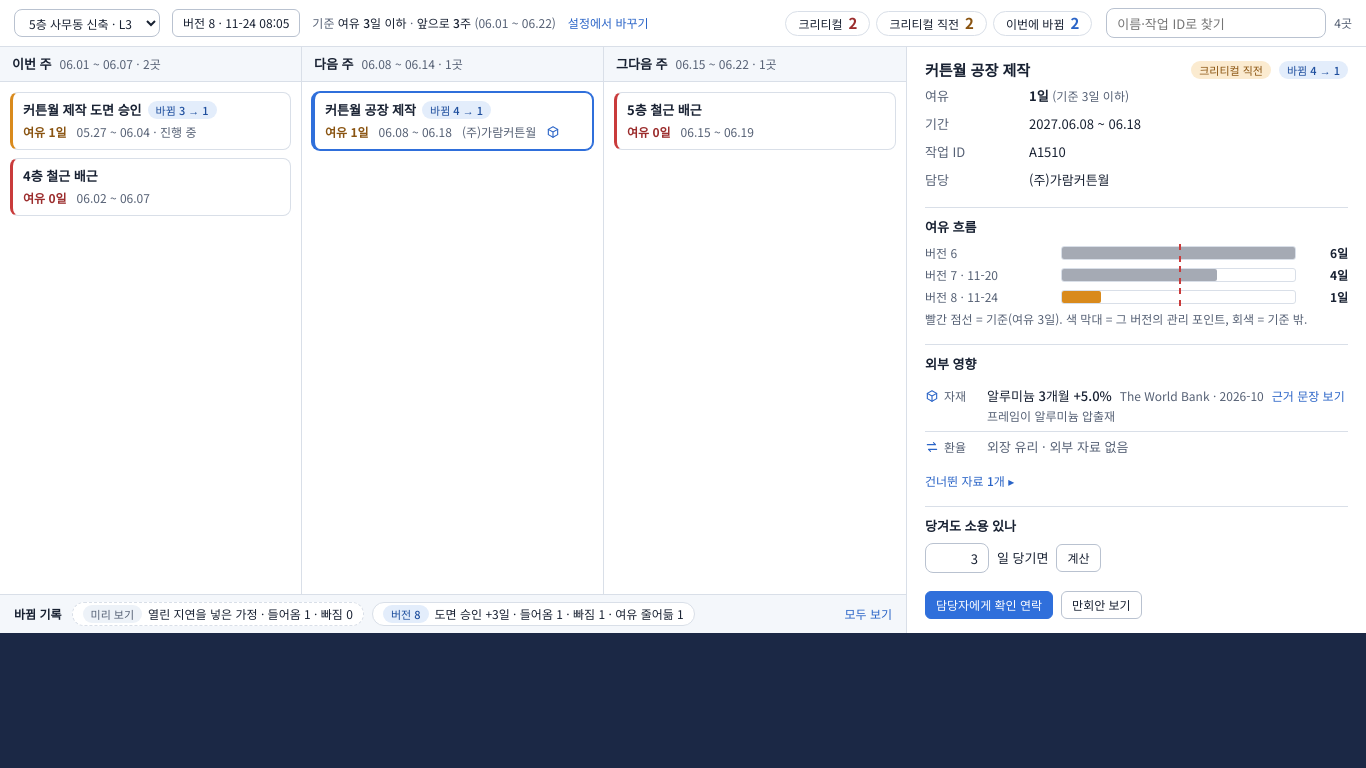
「당겨도 소용 있나」 asks the server and shows the result line and the next chain
Clear the field named "당길 날 수" at (957, 558), box 925,543 -> 989,573
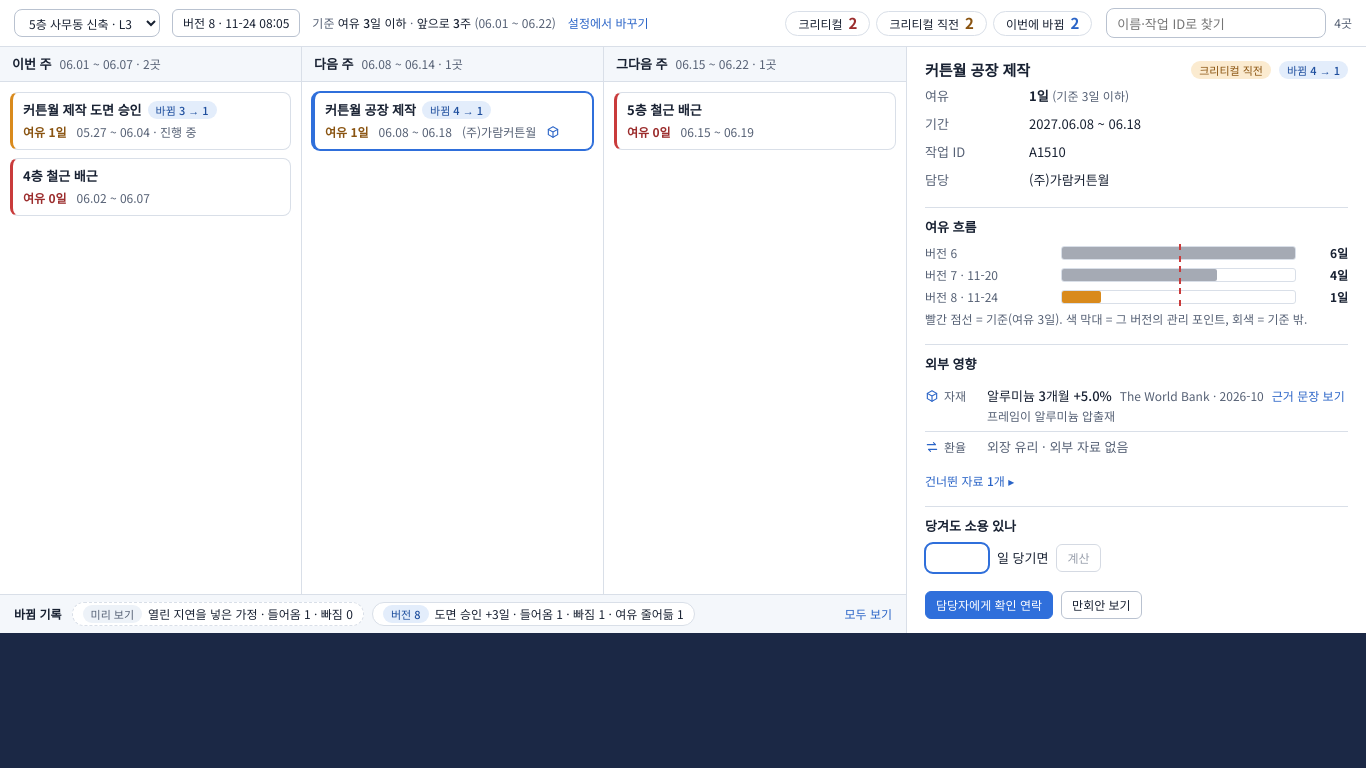
Expected: the button "계산" is disabled, 1056,544 -> 1101,572
Type "3" into the field named "당길 날 수" at (957, 558), box 925,543 -> 989,573
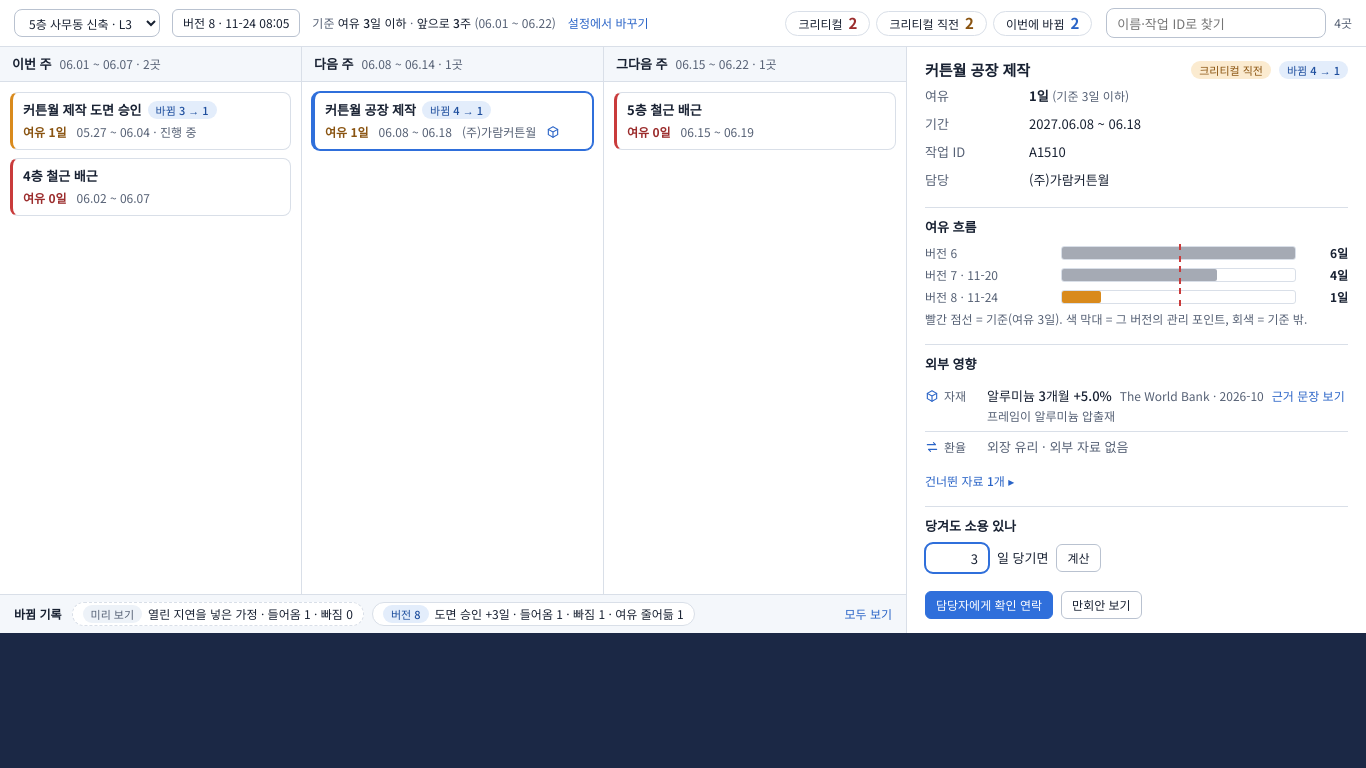
Click the button "계산" at (1079, 558), box 1056,544 -> 1101,572
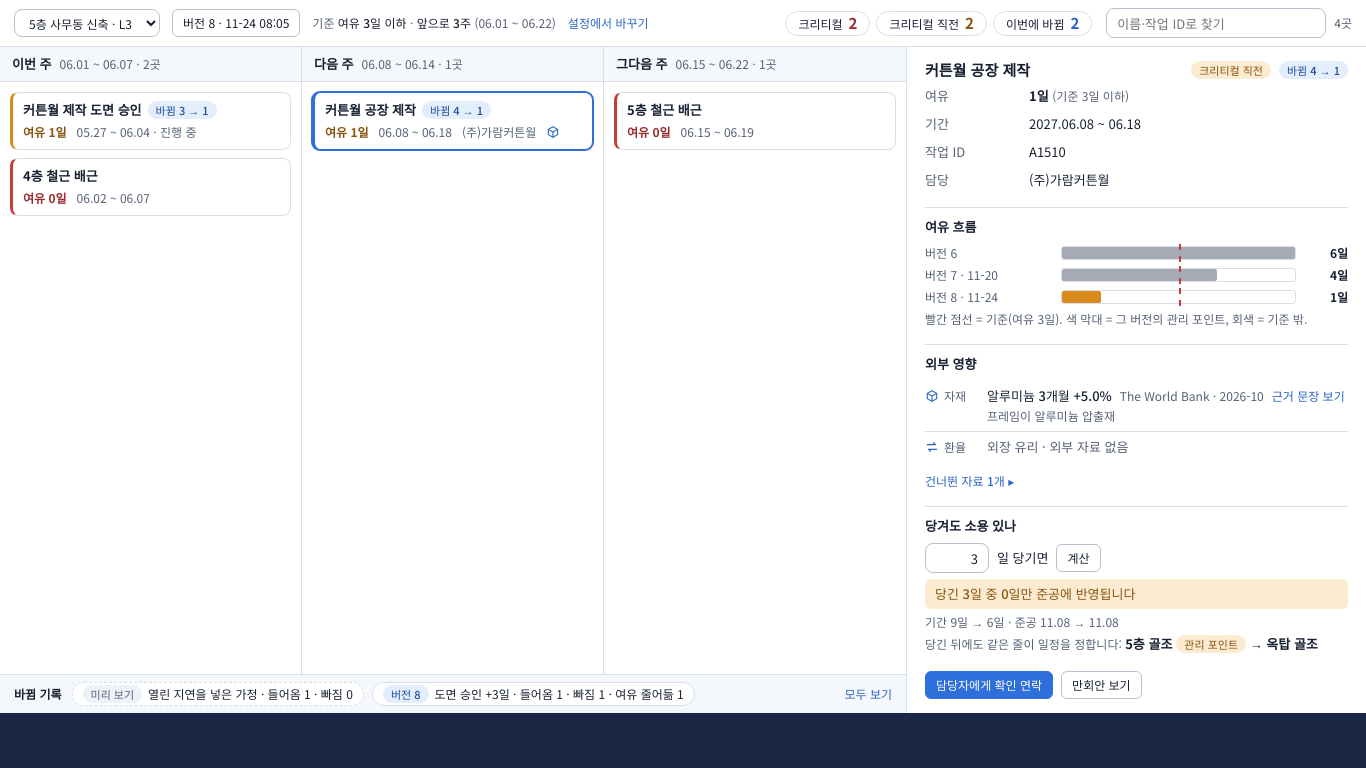
Expected: the message does not show "준공 반영", 925,579 -> 1348,653
Expected: the message shows "당긴 3일 중 0일만 준공에 반영됩니다", 935,584 -> 1136,603
Expected: the message shows "기간 9일 → 6일 · 준공 11.08 → 11.08", 925,613 -> 1119,630
